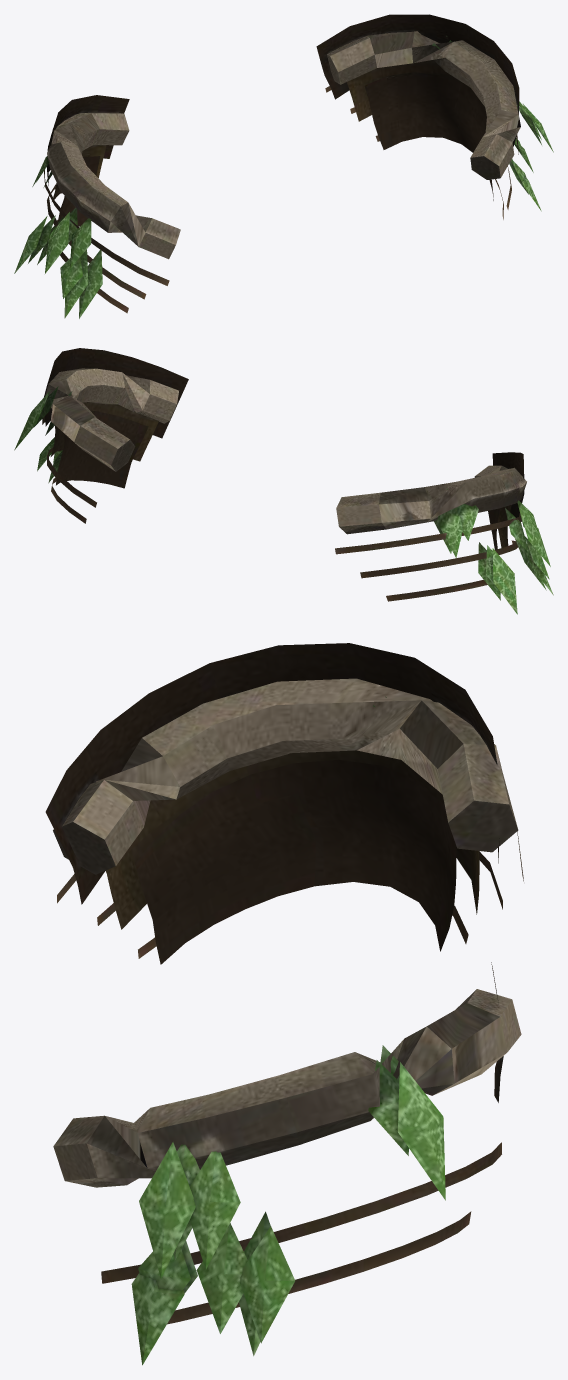
File: Ombreiras_de_Couro_nivel75.glb
3 renders of one model, top to bottom at view 1: azimuth 30°, elevation 25°; view 2: azimuth 150°, elevation 25°; view 3: azimuth 270°, elevation 25°, orthographic. The views are drawn at different scales.
Parts seen in each view (by area): view 1: ombreiras_de_couro_nivel75; view 2: ombreiras_de_couro_nivel75; view 3: ombreiras_de_couro_nivel75.
Part boxes in pixels (<box>): ombreiras_de_couro_nivel75: <box>14,14,553,318</box>; ombreiras_de_couro_nivel75: <box>14,348,553,614</box>; ombreiras_de_couro_nivel75: <box>45,643,523,1365</box>.
Bounding box in the file's own units: 0.6814 × 0.2076 × 0.2871.
Materials: 1 (1 with a texture image).
